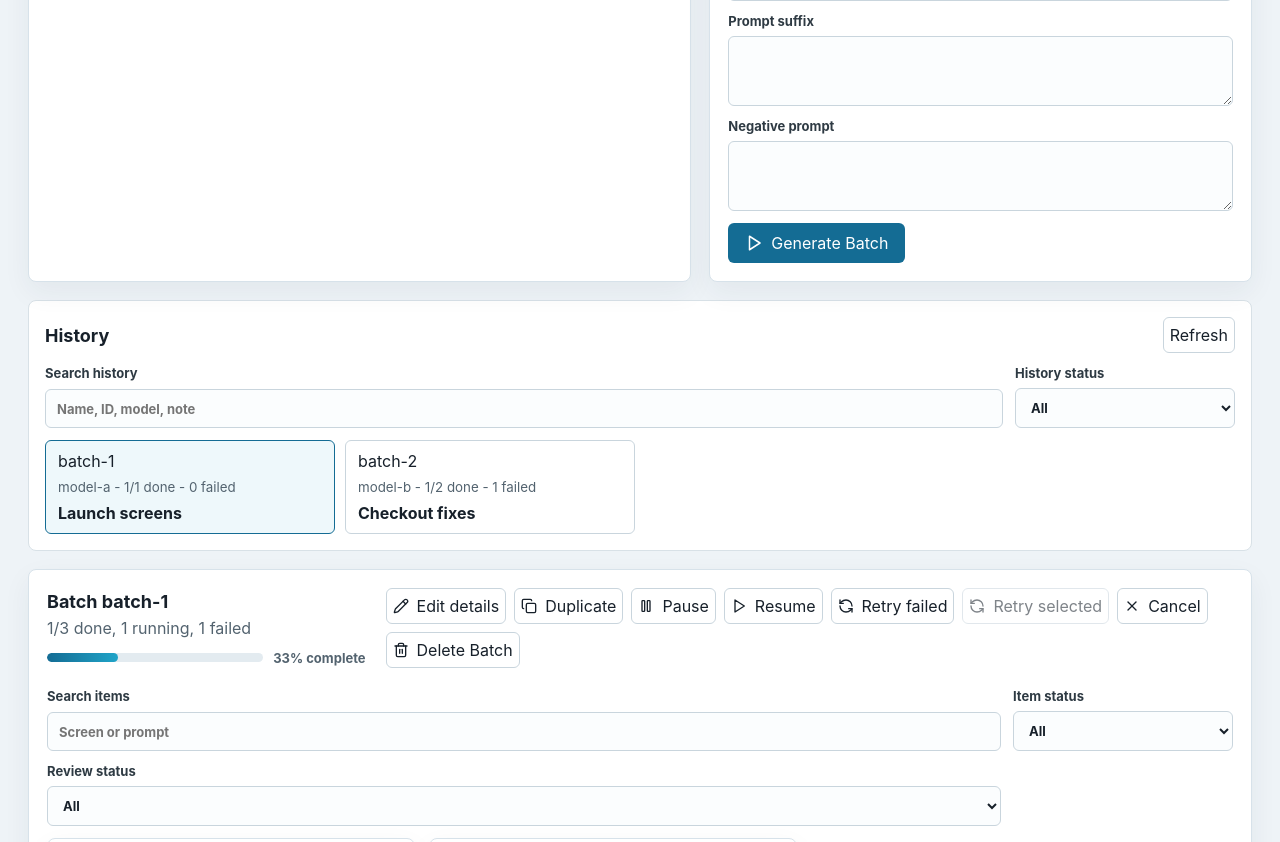
Test: App › filters history by search text and status
(page scrolled)
Expected: the button "batch-1 model-a - 1/1 done - 0 failed Launch screens" is shown, [45,440,335,534]
Expected: the button "batch-2 model-b - 1/2 done - 1 failed Checkout fixes" is shown, [345,440,635,534]
Type "checkout" into the field labelled "Search history" at (524, 408), box [45,389,1003,428]
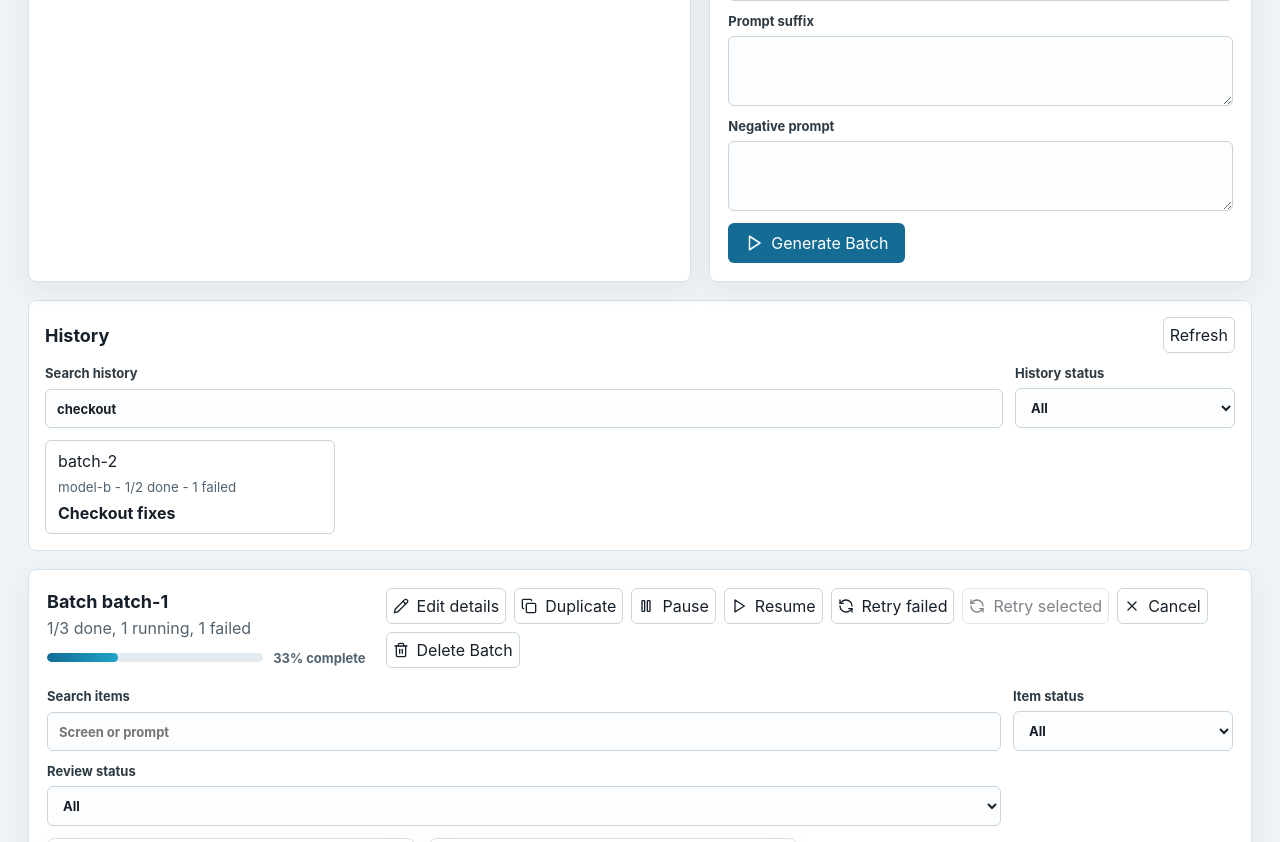
Expected: the button "batch-2 model-b - 1/2 done - 1 failed Checkout fixes" is shown, [45,440,335,534]
Expected: the button "Launch screens" is gone
Select "done" in the dropdown labelled "History status" at (1125, 408), box [1015,388,1235,428]
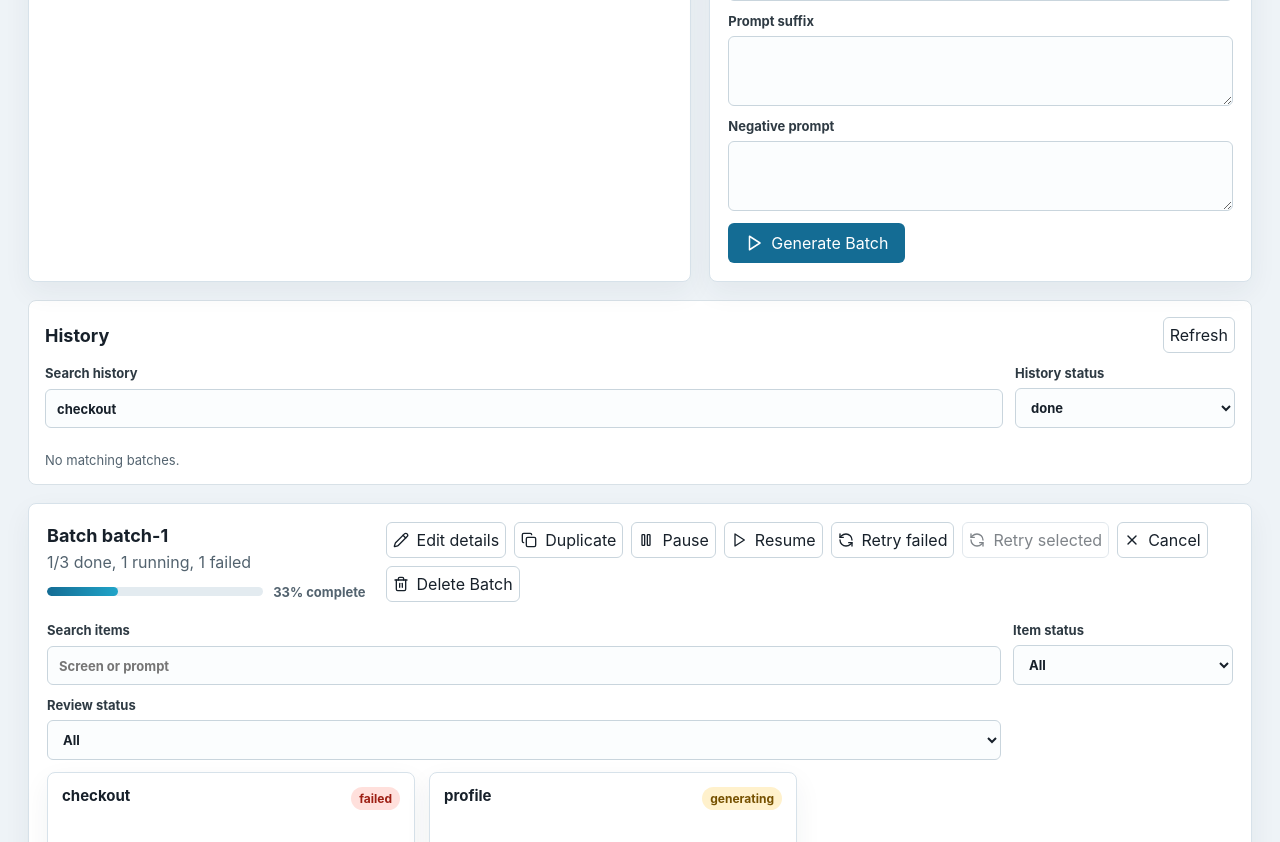
Expected: the text "No matching batches." is shown, [45,452,180,468]
